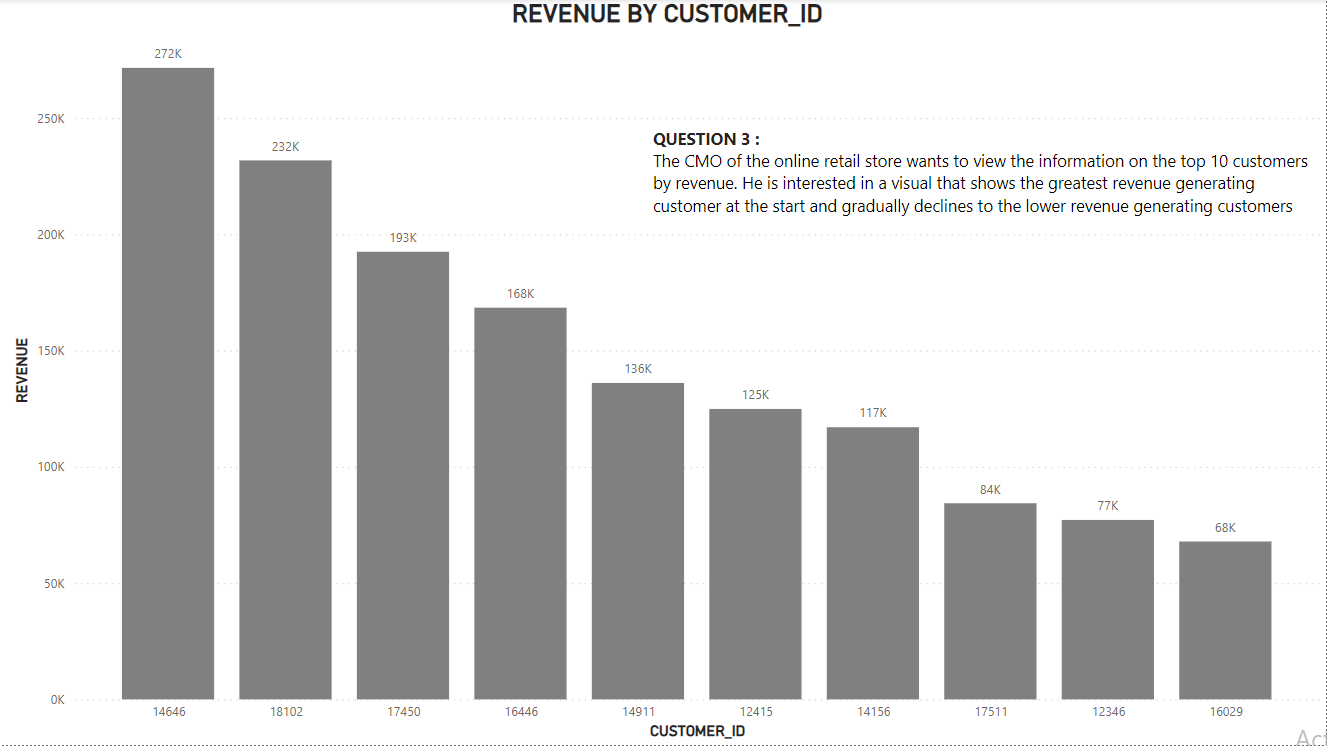

This screenshot's page, from the dashboard's own definition file:
{"tool":"powerbi","page":{"name":"Qn 3","canvas":[1280,720],"ordinal":2},"visuals":[{"type":"clusteredColumnChart","title":"REVENUE BY CUSTOMER_ID","fields":{"Category":["Online Retail.CustomerID"],"Y":["Sum(Online Retail.Revenue)"]},"box":[9.7,0,1270.3,719.8],"z":0},{"type":"textbox","box":[625.7,118,654.5,102.9],"z":1}]}

Visuals, with their boxes in screenshot pixels (x1, y1, x2, y2), scaled from the page's 1280x720 canvas onto the 1327x746 screenshot:
"REVENUE BY CUSTOMER_ID" clusteredColumnChart: (left=10, top=0, right=1326, bottom=745)
textbox: (left=649, top=122, right=1326, bottom=229)
